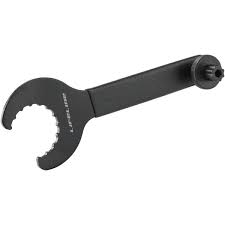Wrench: (2, 54, 225, 177)
